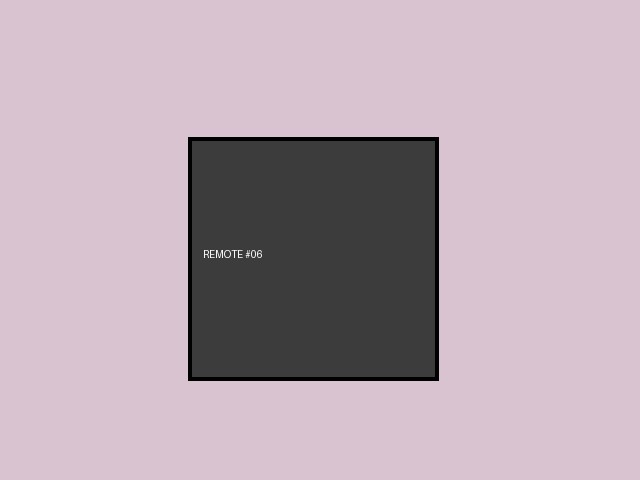remote: (188, 137, 438, 380)
